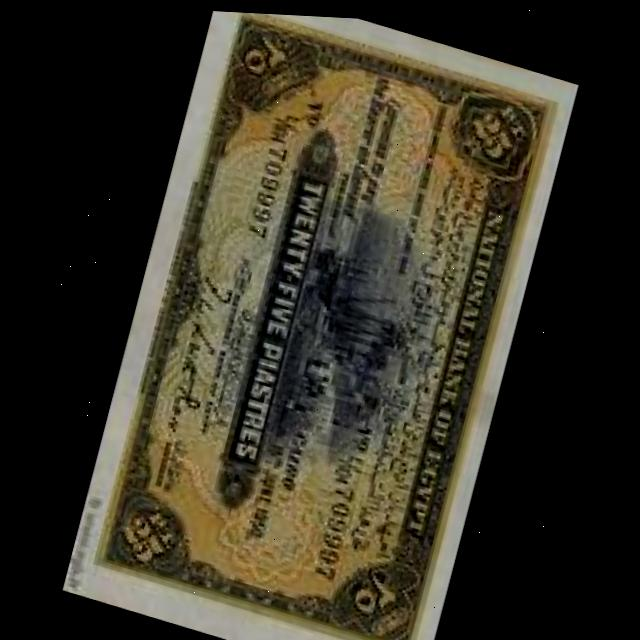banknote: (62, 3, 581, 640)
